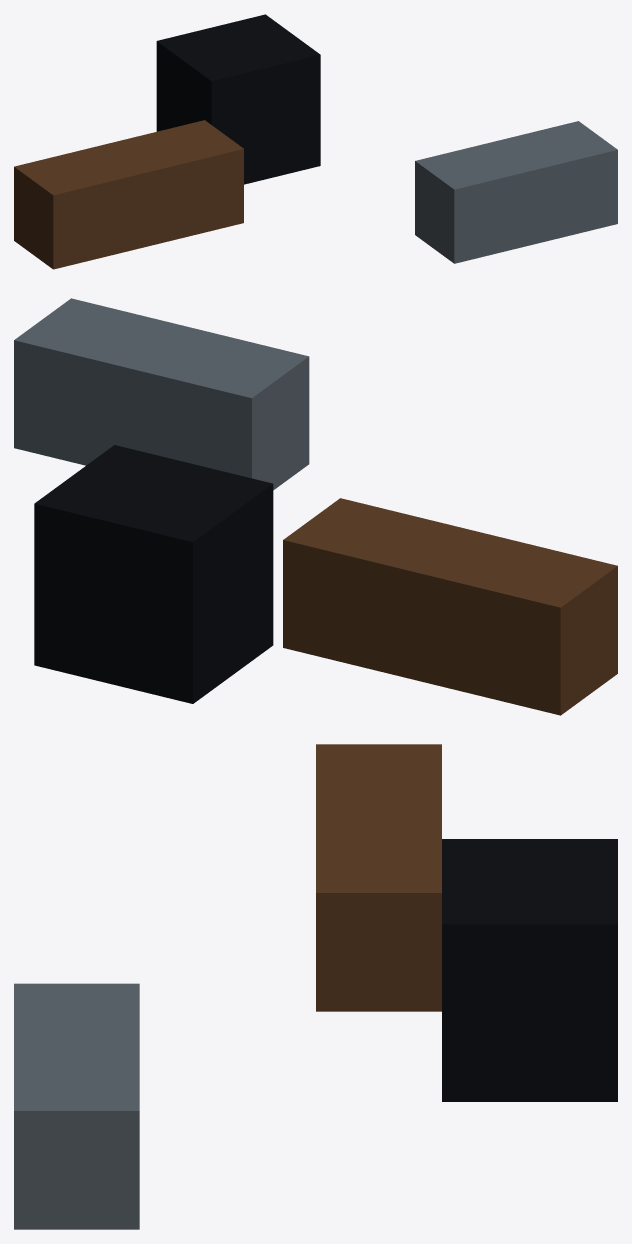
Rendered from module.cover_cluster.glb.
The picture shows the model from 3 angles, top to bottom: view 1: azimuth 30°, elevation 25°; view 2: azimuth 150°, elevation 25°; view 3: azimuth 270°, elevation 25°; orthographic projection. The views are drawn at different scales.
Parts seen in each view (by area): view 1: cluster_crate_a, cluster_crate_b, cluster_machine; view 2: cluster_crate_a, cluster_machine, cluster_crate_b; view 3: cluster_machine, cluster_crate_a, cluster_crate_b.
Boxes of the visible parts, <box> form: cluster_crate_a: <box>14,120,243,269</box>; cluster_crate_b: <box>415,121,617,263</box>; cluster_machine: <box>156,14,320,184</box>; cluster_crate_a: <box>283,498,617,715</box>; cluster_machine: <box>34,445,273,703</box>; cluster_crate_b: <box>14,298,309,490</box>; cluster_machine: <box>442,839,617,1101</box>; cluster_crate_a: <box>316,744,441,1011</box>; cluster_crate_b: <box>14,983,139,1229</box>.
Bounding box in the file's own units: 6.9 × 1.56 × 4.8.
